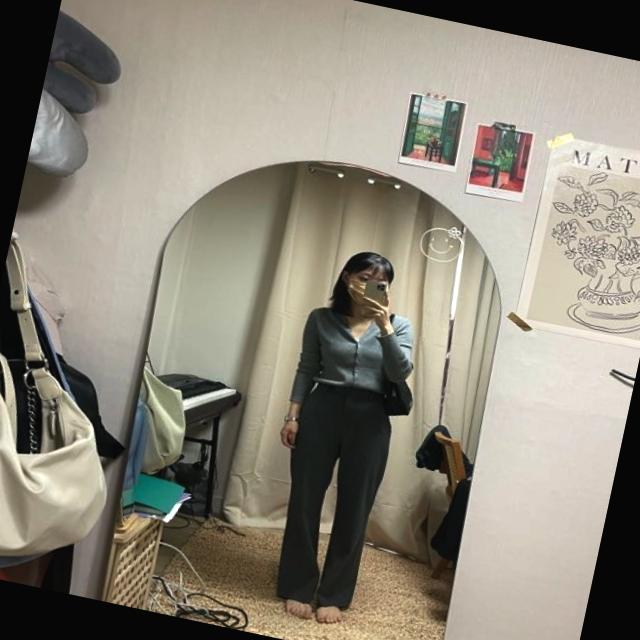cardigan: (288, 293, 422, 426)
slacks: (254, 372, 403, 616)
